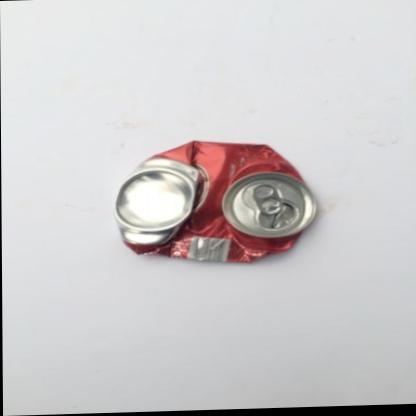trash: (115, 141, 317, 262)
